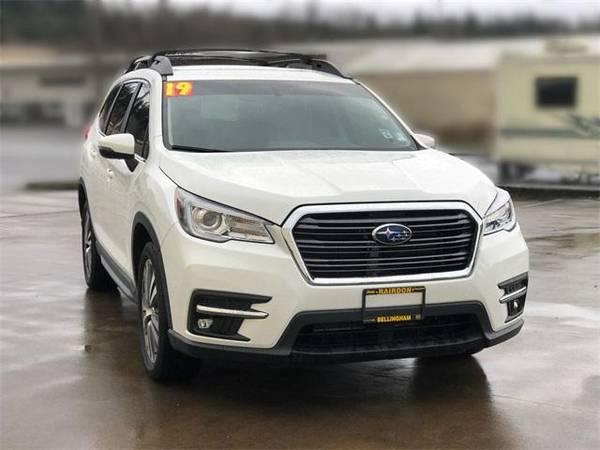Front_Bumper: (161, 226, 536, 367)
Front_Fender: (130, 156, 183, 246)
Front_Right_Door: (98, 146, 147, 294)
Front_Right_Window: (119, 84, 152, 167)
Front_Windshield: (163, 78, 423, 152)
Grille: (279, 199, 486, 283)
Hood: (159, 148, 497, 223)
Left_Headlight: (481, 186, 516, 236)
Rear_Right_Door: (80, 129, 119, 258)
Rear_Right_Window: (98, 83, 140, 146)
Right_Headlight: (175, 188, 276, 247)
Roof: (109, 50, 365, 157)
Wheel: (138, 239, 201, 377), (80, 201, 117, 284)
